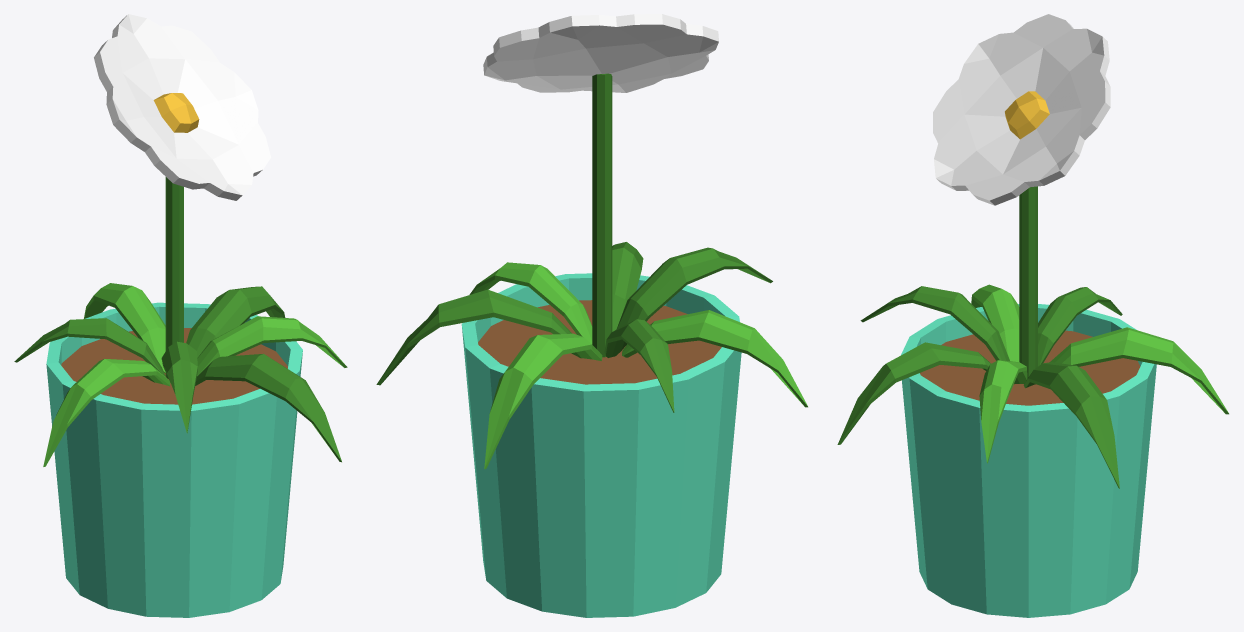
Rendered from Prop_Homeplant_02.fbx.
3 views of the same model, side by side, from view 1: azimuth 30°, elevation 25°; view 2: azimuth 150°, elevation 25°; view 3: azimuth 270°, elevation 25° (orthographic). The views are drawn at different scales.
Parts seen in each view (by area): view 1: Prop_Homeplant_02; view 2: Prop_Homeplant_02; view 3: Prop_Homeplant_02.
Part boxes in pixels (left/top/right/bottom): Prop_Homeplant_02: left=14, top=14, right=347, bottom=617; Prop_Homeplant_02: left=376, top=14, right=807, bottom=617; Prop_Homeplant_02: left=837, top=14, right=1228, bottom=617.
Bounding box in the file's own units: 29.91 × 47.58 × 31.83.
